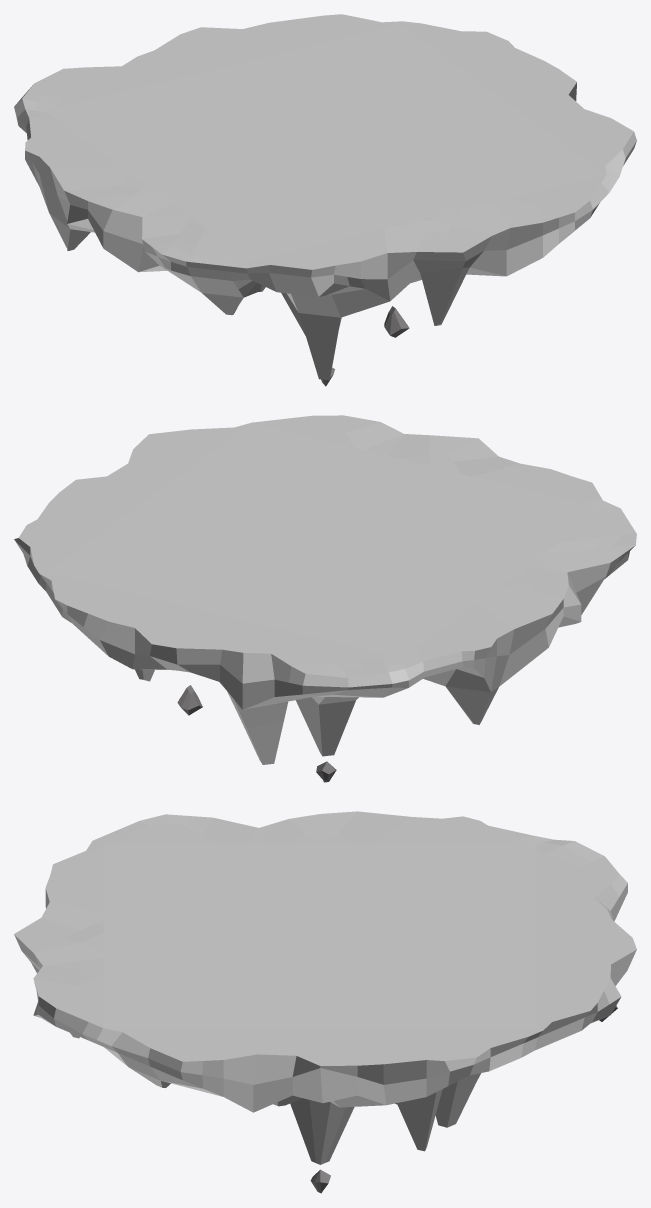
The model's file is Island.obj.
3 views of the same model, one above another, from view 1: azimuth 30°, elevation 25°; view 2: azimuth 150°, elevation 25°; view 3: azimuth 270°, elevation 25° (orthographic). The views are drawn at different scales.
Parts seen in each view (by area): view 1: Plane, Island, Rocks; view 2: Plane, Island, Rocks; view 3: Plane, Island.
Boxes of the visible parts, x1,y1,x2,y2 form: Plane: (46,24,604,260); Island: (14,14,636,380); Rocks: (321,306,409,386); Plane: (48,423,604,658); Island: (14,415,636,764); Rocks: (177,685,336,782); Plane: (104,844,536,1027); Island: (14,811,636,1164).
Size of the model in its own units: 29.5 by 13.85 by 30.42.
